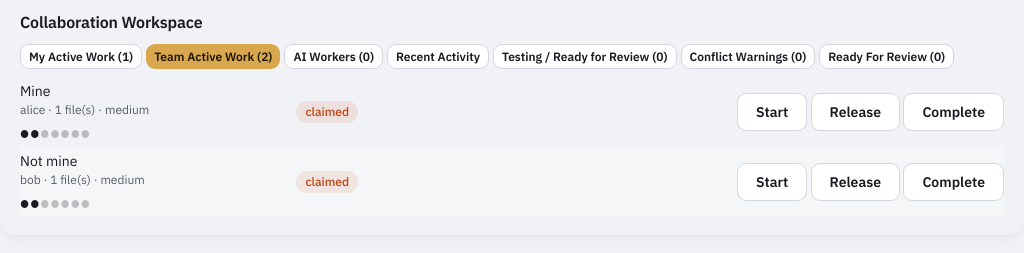
Scenario: CollaborationWorkspace › My Active Work filters by the signed-in user
The image size is (1024, 253).
Expected: the text "Mine" is shown, [20,82,50,100]
Click the button "My Active Work (1)" at (81, 56), box [20,44,142,69]
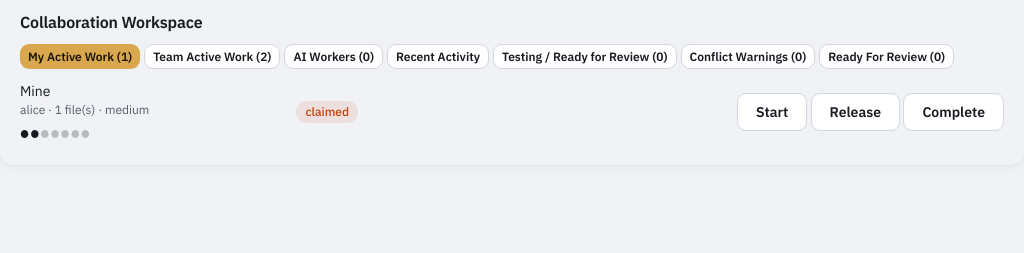
Expected: the text "Mine" is shown, [20,82,50,100]
Expected: the text "Not mine" is gone
